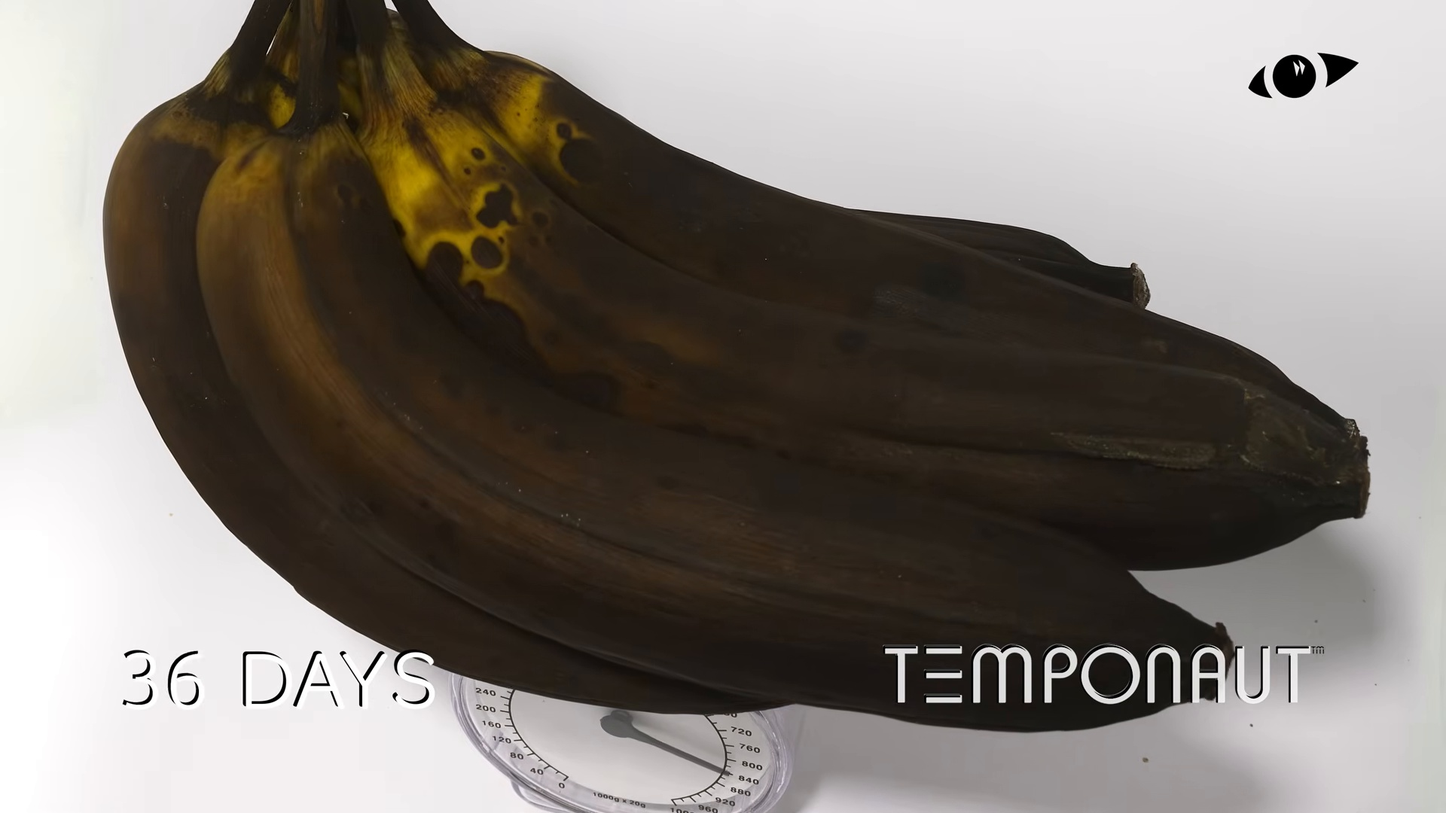banana_rotten: (98, 0, 1345, 734)
